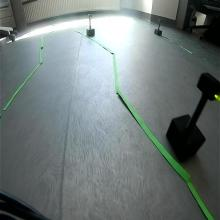green: (197, 73, 220, 102)
